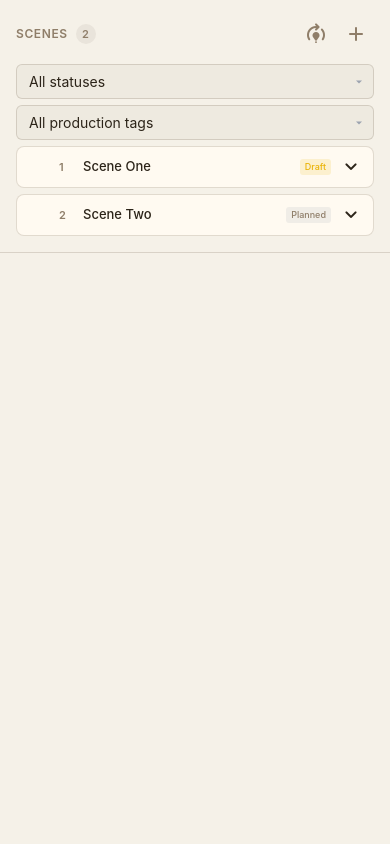
Test: ScenePlanner › opens simulator panel on button click
Step 1. Click the button named "Scene Chemistry Simulator" → (316, 34), box [298,16,334,52]
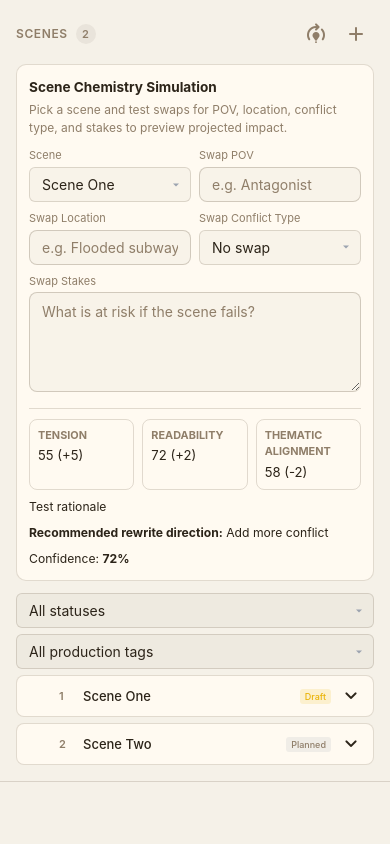
Check: the text "Scene Chemistry Simulation" is shown, box [29,79,217,95]
Check: the text "Test rationale" is shown, box [29,499,106,514]
